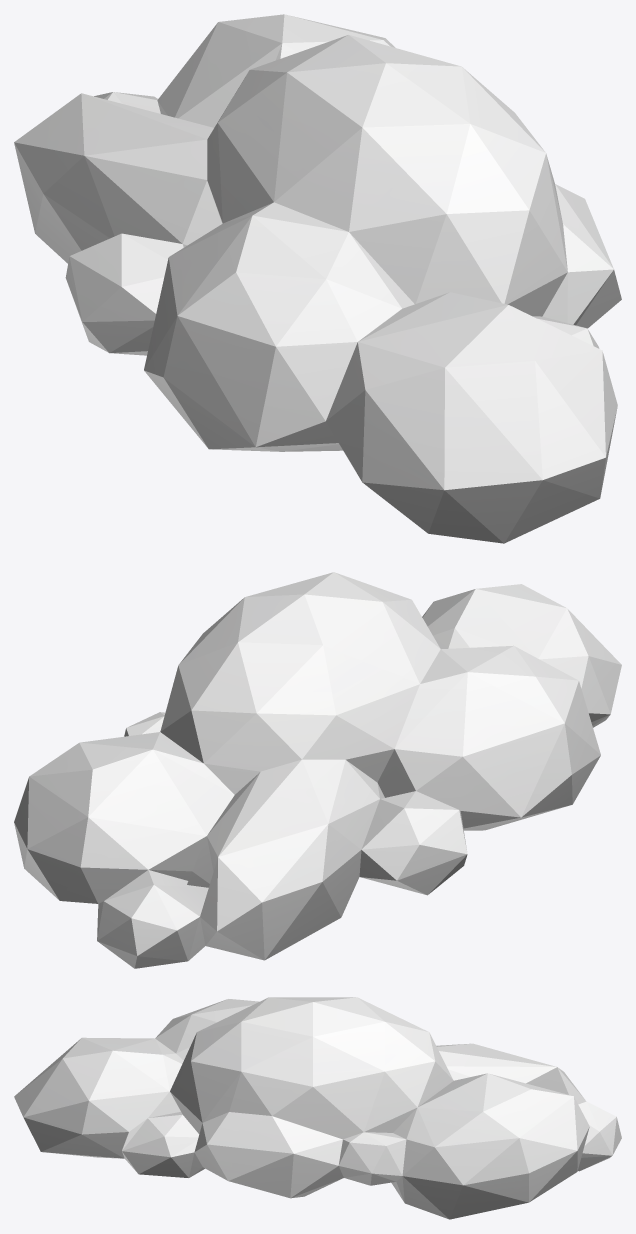
Rendered from cloud.glb.
3 views of the same model, one above another, from view 1: azimuth 30°, elevation 25°; view 2: azimuth 150°, elevation 25°; view 3: azimuth 270°, elevation 25° (orthographic). The views are drawn at different scales.
Parts seen in each view (by area): view 1: Icosphere.080; view 2: Icosphere.080; view 3: Icosphere.080.
Part boxes in pixels (bbox=[...]): Icosphere.080: bbox=[14, 14, 621, 543]; Icosphere.080: bbox=[14, 572, 621, 968]; Icosphere.080: bbox=[14, 997, 621, 1219].
Bounding box in the file's own units: 3.28 × 1.93 × 6.07.
Materials: 1 (1 with a texture image).
